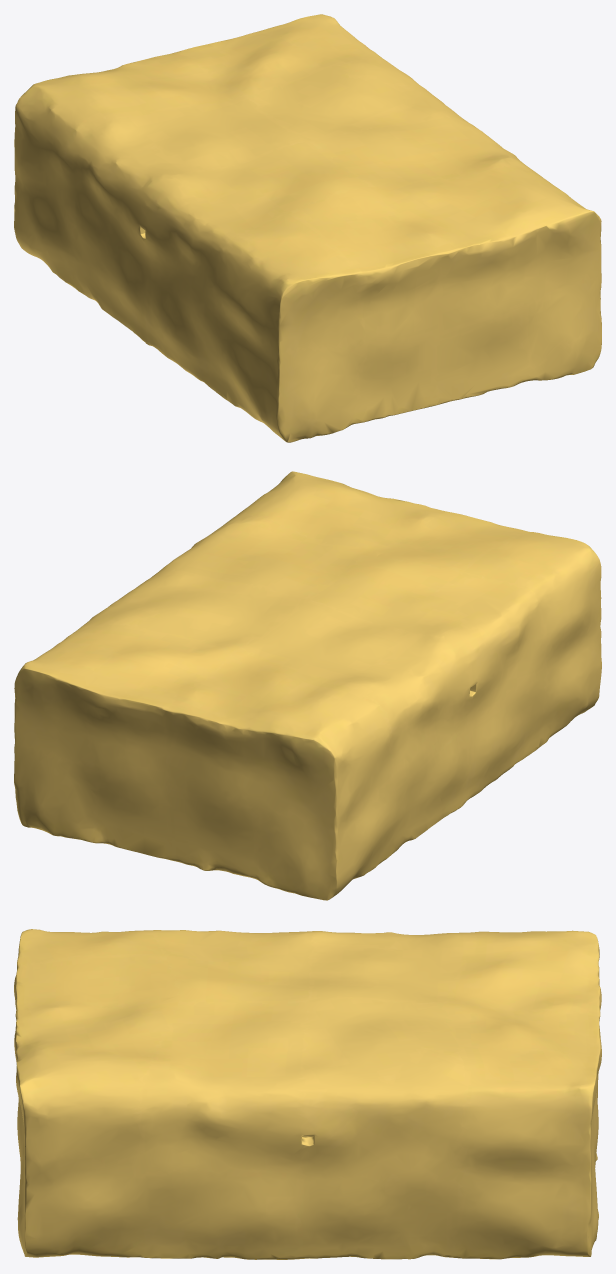
Rendered from hydro-grout-sponge.glb.
3 views of the same model, one above another, from view 1: azimuth 30°, elevation 25°; view 2: azimuth 150°, elevation 25°; view 3: azimuth 270°, elevation 25° (orthographic). The views are drawn at different scales.
Parts seen in each view (by area): view 1: tripo_node_9a79a1ef-9d1f-4a9a-95e1-7ac4b7437286; view 2: tripo_node_9a79a1ef-9d1f-4a9a-95e1-7ac4b7437286; view 3: tripo_node_9a79a1ef-9d1f-4a9a-95e1-7ac4b7437286.
Part boxes in pixels (x1,y1,x2,y2): tripo_node_9a79a1ef-9d1f-4a9a-95e1-7ac4b7437286: (14,14,601,442); tripo_node_9a79a1ef-9d1f-4a9a-95e1-7ac4b7437286: (14,471,601,900); tripo_node_9a79a1ef-9d1f-4a9a-95e1-7ac4b7437286: (14,929,601,1259).
Size of the model in its own units: 0.7004 by 0.3533 by 1.
1 material, 1 textured.
